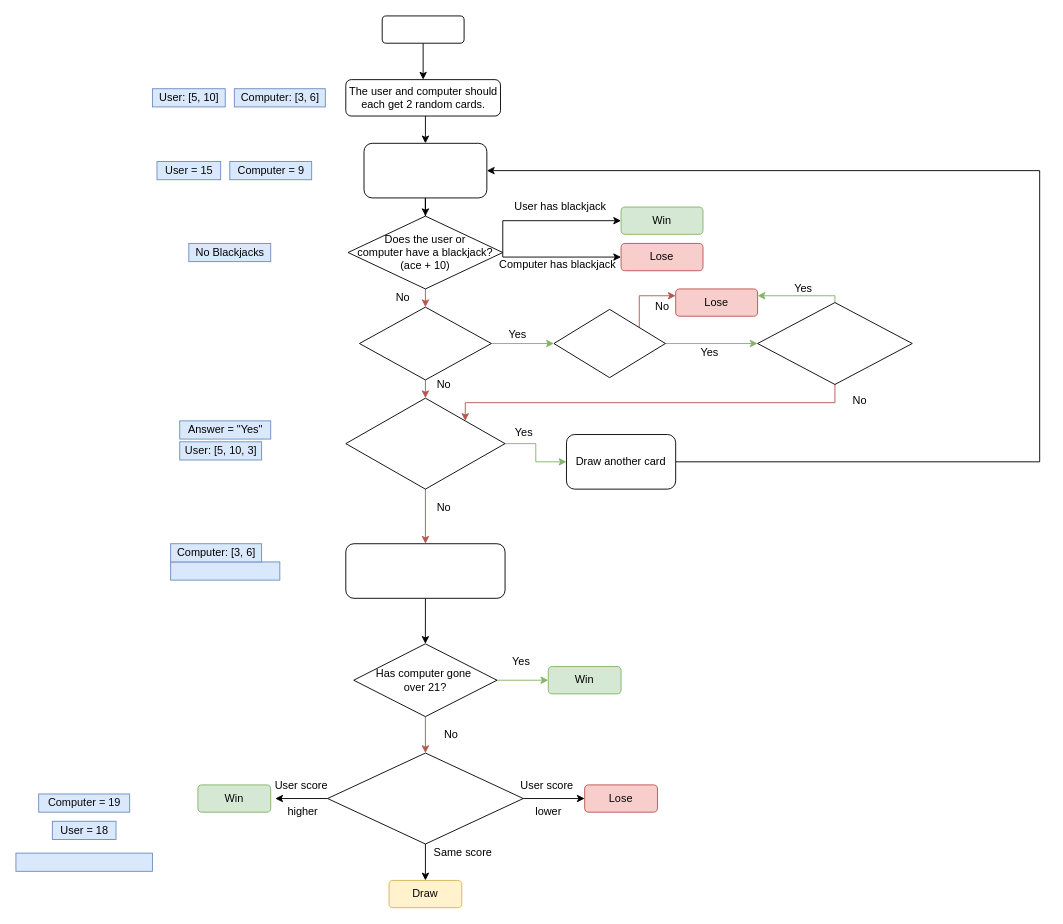
This 1063x924 diagram has some shape labels left out. Each missing label, with the centre of its shape:
Add up the user's and the computer's scores: point 425,170
Ask the user if they want to get another card.: point 425,443
Compare user score with computer score to see if user score is higher?: point 425,798
Computer plays, if score is less than 17, keep drawing cards.: point 425,570
Computer: [3, 6, 10]: point 225,570
Do they have an "Ace"?: point 609,343
If the ace counts as a 1 instead of 11, are they still over 21?: point 834,343
Is user's score over 21?: point 425,343
Outcome: Computer wins.: point 83,861
START: point 422,29
